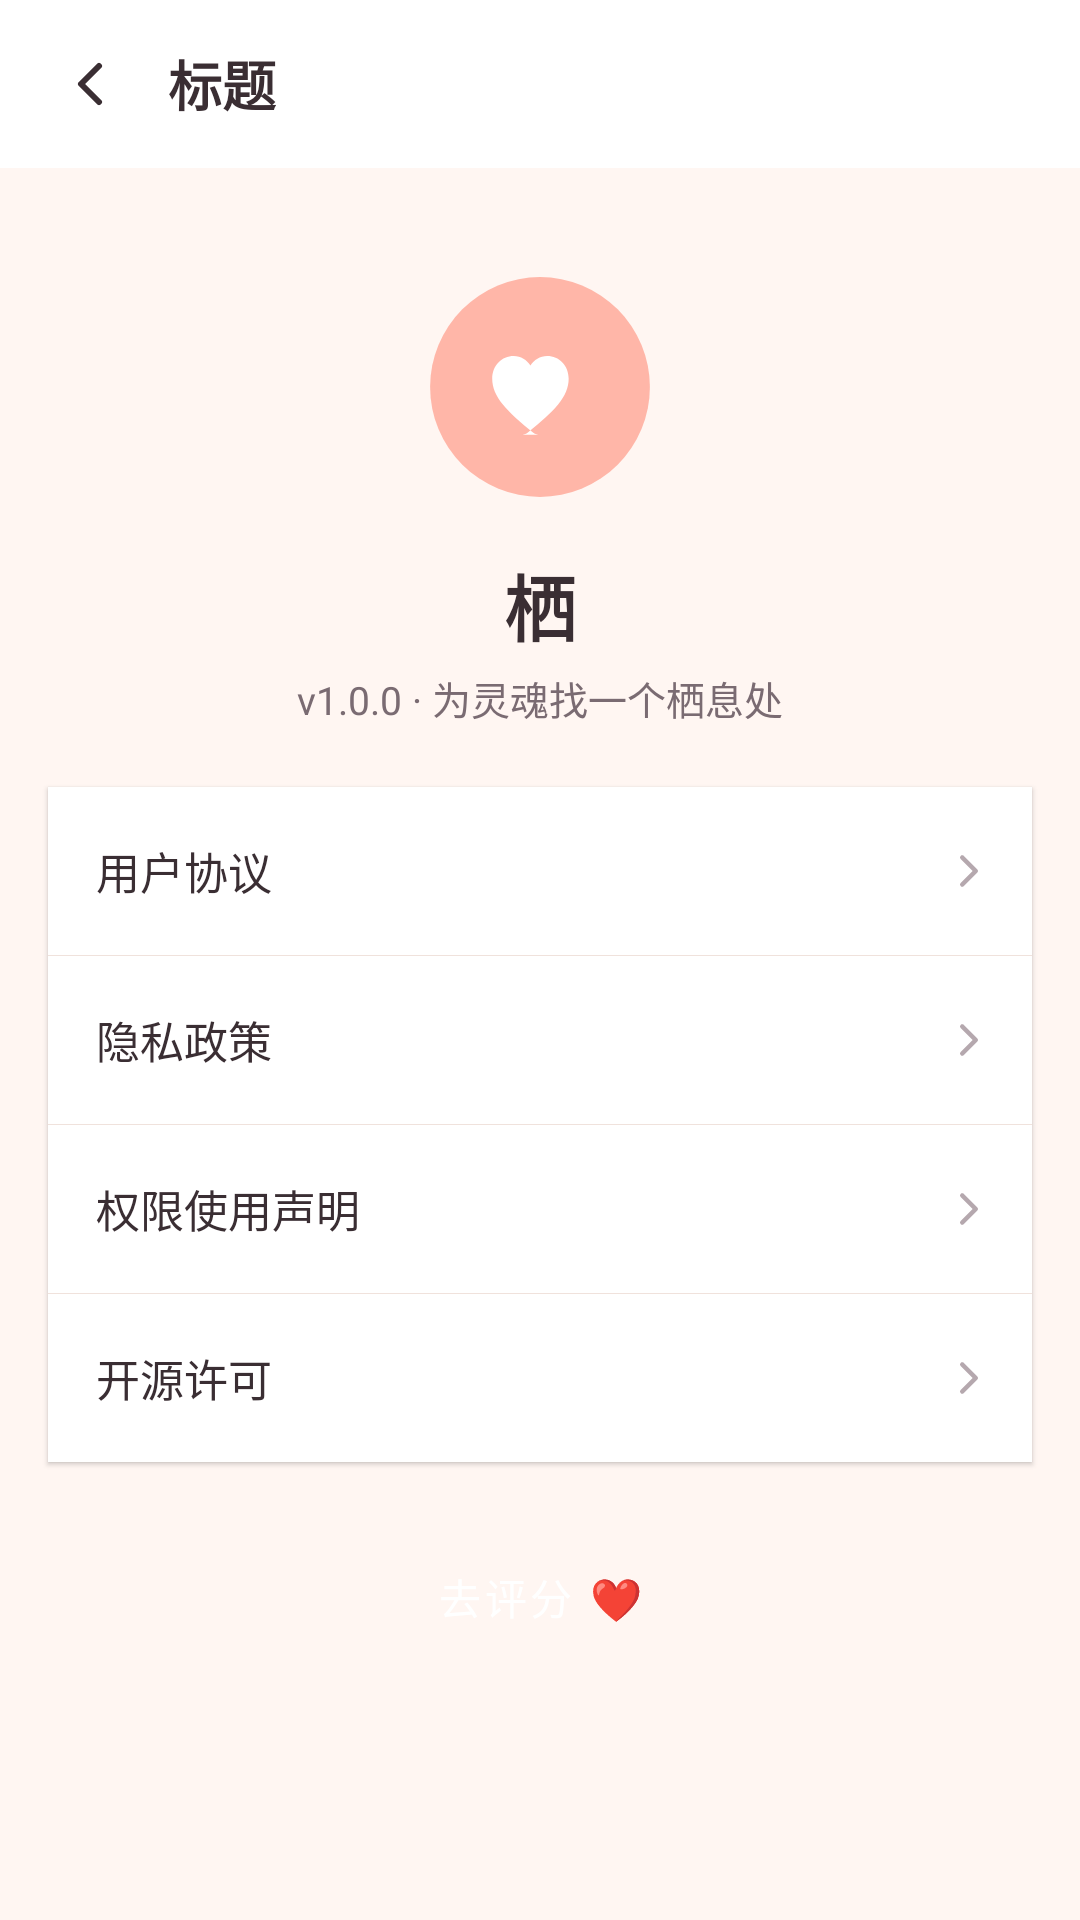

Icons on this 1080x1920 Android screen, each with the point to tap as (x=x, y=y):
chevron right: (x=969, y=871), (x=969, y=1040), (x=969, y=1209), (x=969, y=1378)
返回: (x=90, y=84)
